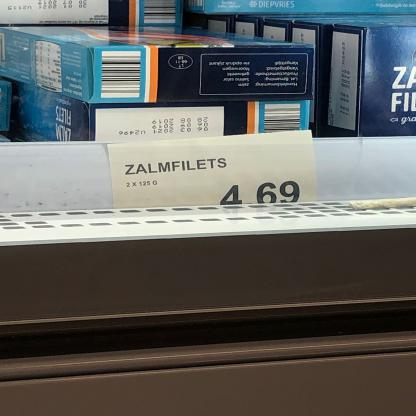prtg: (107, 130, 318, 210)
